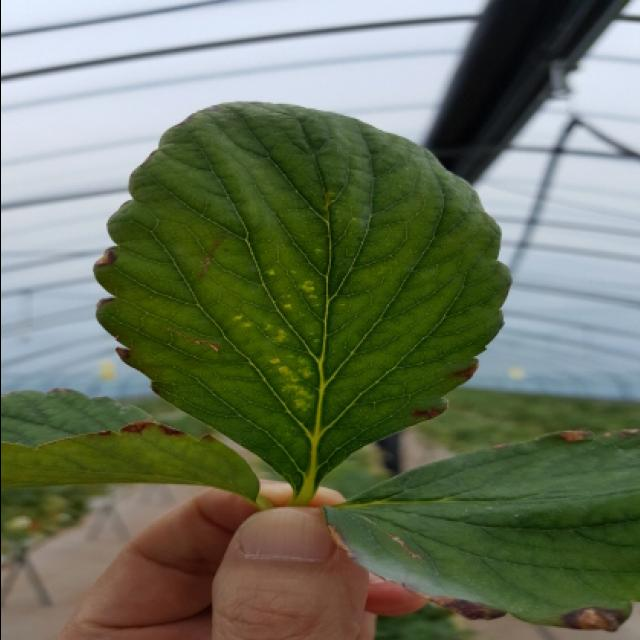Angular Leafspot: (227, 242, 329, 424)
